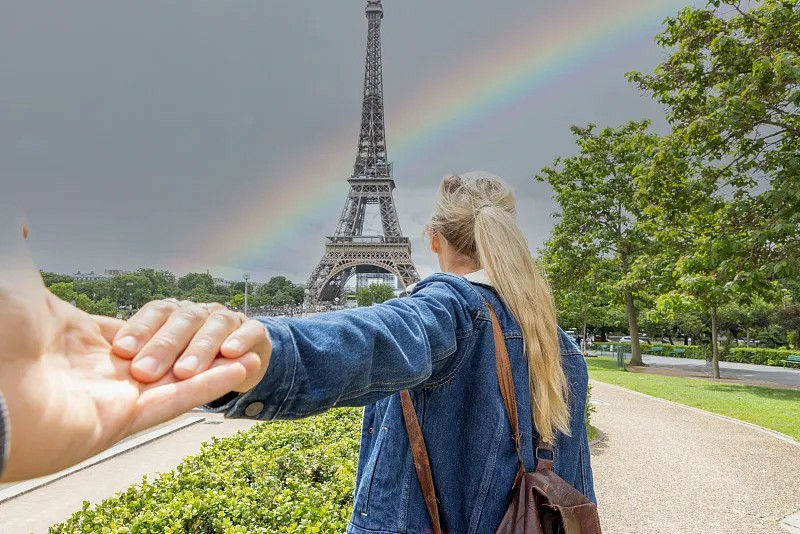Eiffel: (298, 1, 422, 311)
